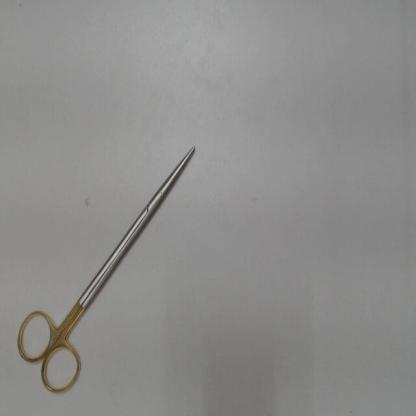7 Metzenbaum Scissors: (13, 137, 203, 404)
